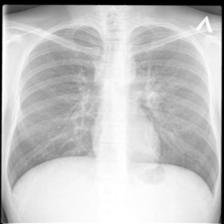tuberculosis: (7, 19, 221, 195)
